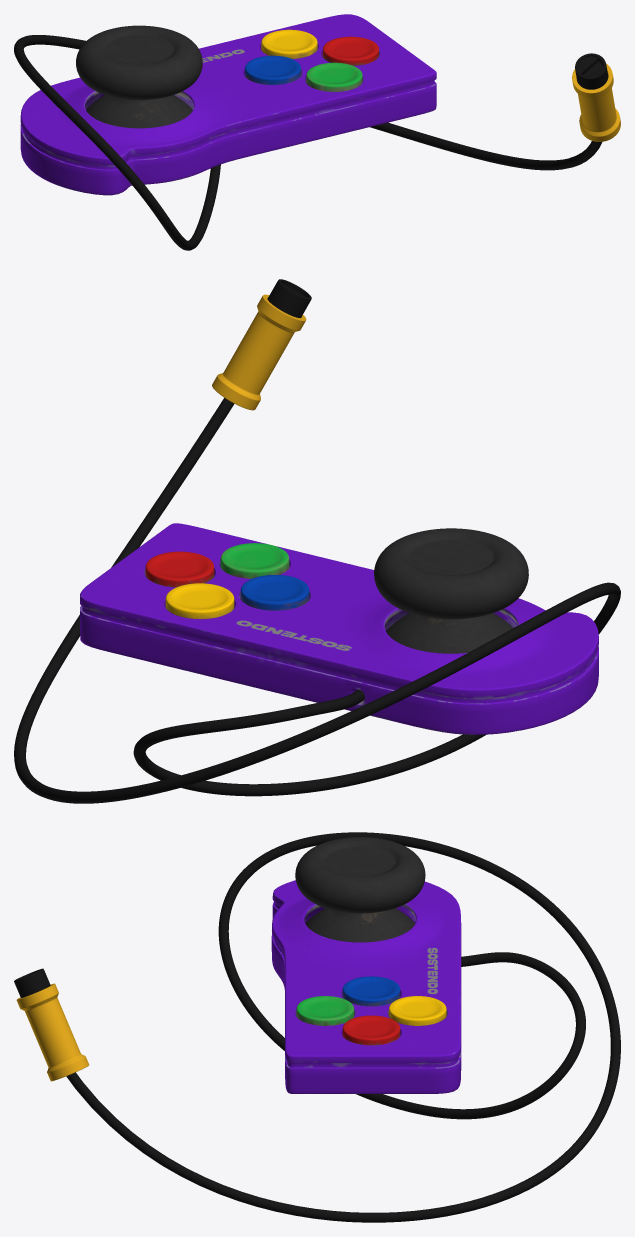
The model's file is gamepad.glb.
3 views of the same model, one above another, from view 1: azimuth 30°, elevation 25°; view 2: azimuth 150°, elevation 25°; view 3: azimuth 270°, elevation 25° (orthographic). The views are drawn at different scales.
Parts seen in each view (by area): view 1: Circle.001_0, Stick_Left, NurbsPath.001_5, Circle.006_2, Btn_South, Btn_West, Btn_North, Btn_East; view 2: Circle.001_0, NurbsPath.001_5, Stick_Left, Circle.006_2, Btn_North, Btn_West, Btn_East, Btn_South; view 3: Circle.001_0, NurbsPath.001_5, Stick_Left, Circle.006_2, Btn_East, Btn_West, Btn_South, Btn_North.
Boxes of the visible parts, left/top/right/bottom form: Circle.001_0: left=20, top=14, right=436, bottom=195; Stick_Left: left=76, top=25, right=202, bottom=128; NurbsPath.001_5: left=14, top=35, right=602, bottom=250; Circle.006_2: left=572, top=53, right=620, bottom=141; Btn_South: left=306, top=62, right=362, bottom=91; Btn_West: left=245, top=55, right=301, bottom=84; Btn_North: left=261, top=29, right=317, bottom=58; Btn_East: left=322, top=36, right=378, bottom=65; Circle.001_0: left=80, top=523, right=598, bottom=734; NurbsPath.001_5: left=14, top=398, right=620, bottom=803; Stick_Left: left=374, top=528, right=528, bottom=653; Circle.006_2: left=212, top=279, right=311, bottom=410; Btn_North: left=165, top=583, right=234, bottom=619; Btn_West: left=240, top=575, right=309, bottom=610; Btn_East: left=145, top=551, right=214, bottom=587; Btn_South: left=220, top=543, right=289, bottom=578; Circle.001_0: left=271, top=880, right=461, bottom=1093; NurbsPath.001_5: left=66, top=832, right=620, bottom=1222; Stick_Left: left=295, top=837, right=425, bottom=942; Circle.006_2: left=14, top=968, right=89, bottom=1081; Btn_East: left=342, top=1015, right=400, bottom=1045; Btn_West: left=342, top=976, right=400, bottom=1006; Btn_South: left=296, top=996, right=354, bottom=1025; Btn_North: left=388, top=996, right=446, bottom=1025.
Bounding box in the file's own units: 0.6759 × 0.3351 × 0.7596.
8 materials, 6 textured.
